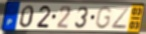0: (19, 5, 36, 29)
2: (36, 5, 52, 29), (56, 5, 72, 29)
3: (74, 6, 90, 30)
G: (94, 6, 113, 30)
Z: (111, 6, 131, 30)
